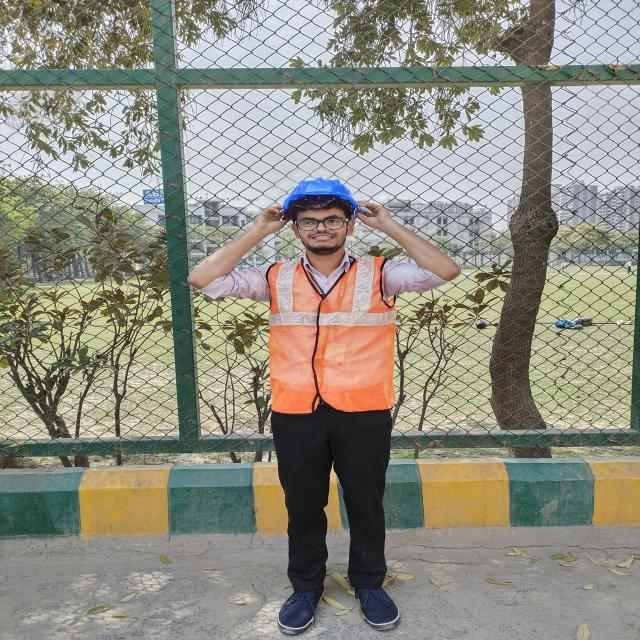safe: (264, 176, 399, 634)
